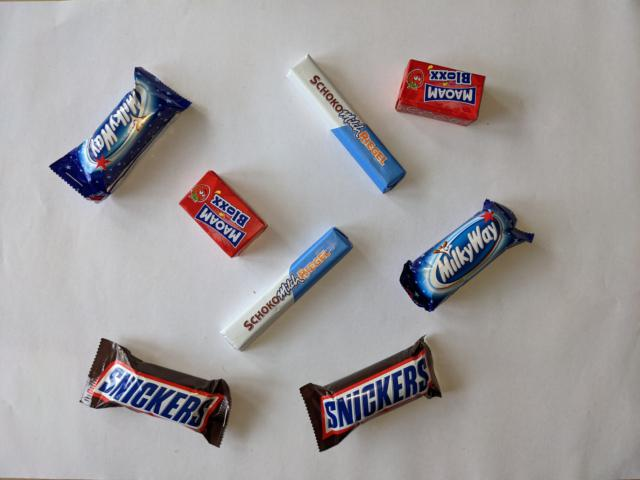MAOAM: (177, 168, 271, 260), (391, 55, 487, 127)
MilkyWay: (46, 65, 194, 206), (397, 197, 536, 314)
Schokoriegel: (215, 223, 357, 354), (283, 50, 408, 196)
Snickers: (76, 335, 234, 449), (297, 333, 445, 454)
